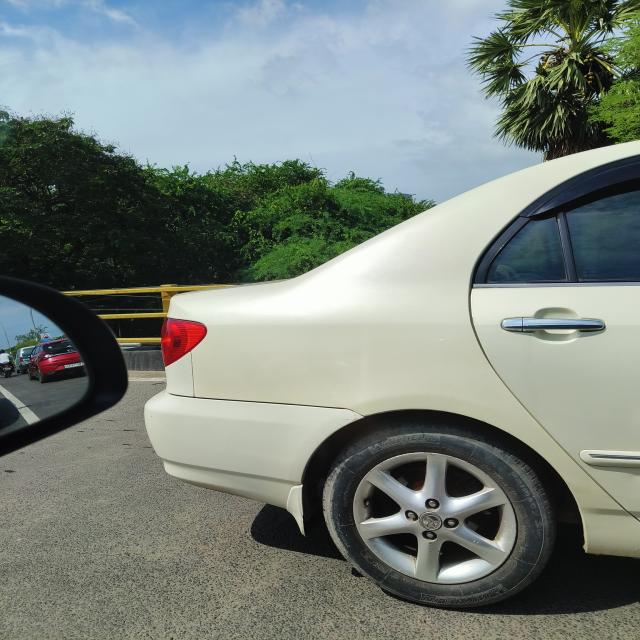scratch: (434, 338, 448, 342)
